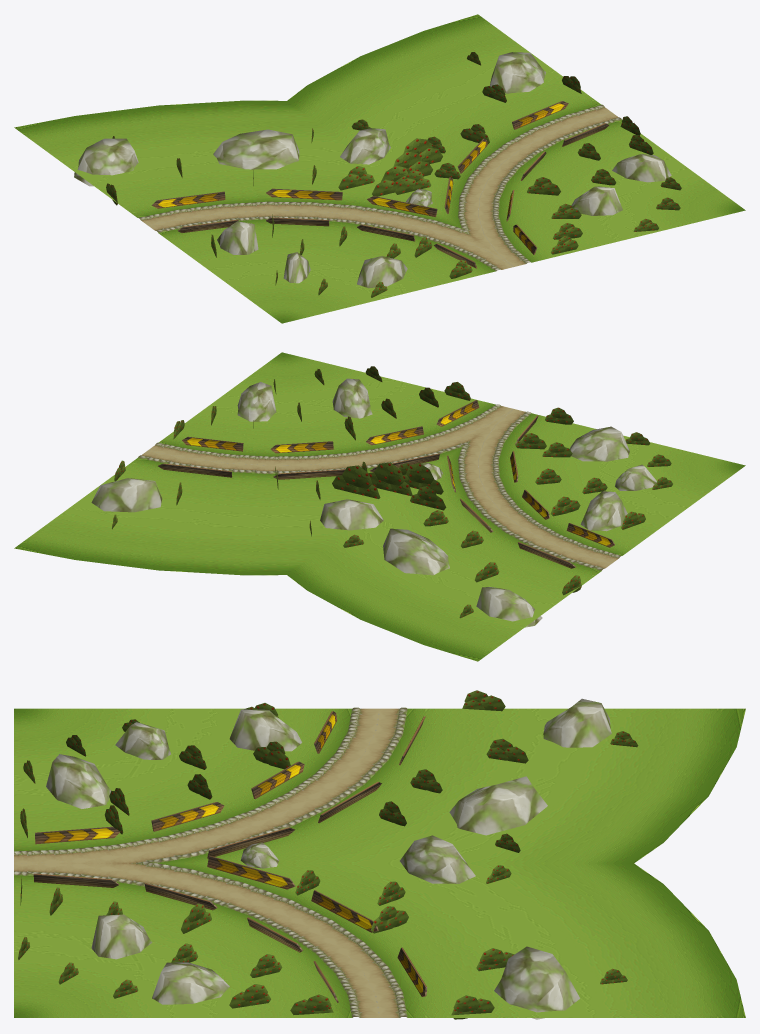
The model's file is ForestRoad02_BothCurve.FBX.
3 views of the same model, one above another, from view 1: azimuth 30°, elevation 25°; view 2: azimuth 150°, elevation 25°; view 3: azimuth 270°, elevation 25° (orthographic). The views are drawn at different scales.
Visible parts, largest first — view 1: Road, Stone (×9), Bush (×5), Fence (×4); view 2: Road, Stone (×9), Bush (×4), Fence (×3); view 3: Road, Stone (×10), Fence (×8), Bush (×8).
Boxes of the visible parts, box(x1,y1,x2,y2) form: Road: box(14, 14, 745, 323); Stone (×9): box(74, 52, 671, 288); Bush (×5): box(338, 138, 442, 196); Fence (×4): box(151, 101, 568, 216); Road: box(14, 352, 745, 661); Stone (×9): box(91, 378, 656, 627); Bush (×4): box(332, 462, 446, 510); Fence (×3): box(182, 426, 423, 453); Road: box(14, 707, 745, 1017); Stone (×10): box(46, 698, 611, 1019); Fence (×8): box(33, 761, 378, 932); Bush (×8): box(229, 690, 528, 1019).
Bounding box in the file's own units: 10001 × 781 × 10000.
